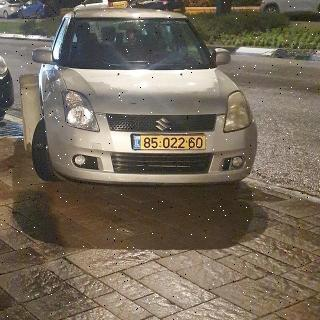LicensePlate: (141, 137, 205, 150)
